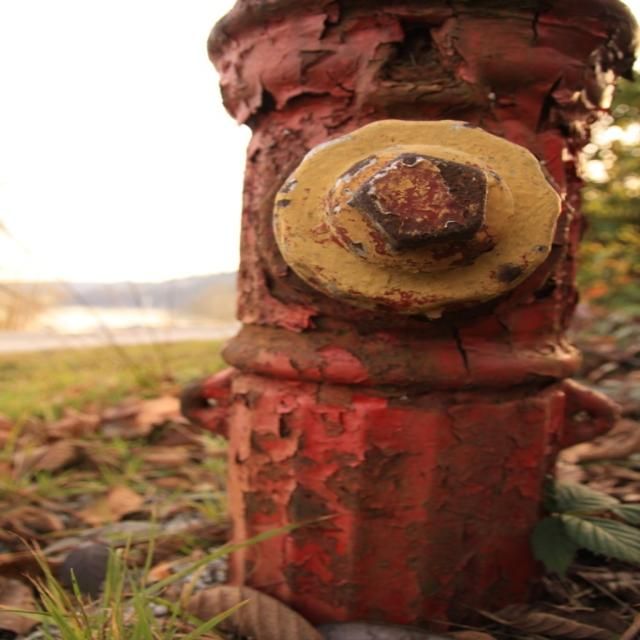fire_hydrant: (203, 0, 638, 632)
